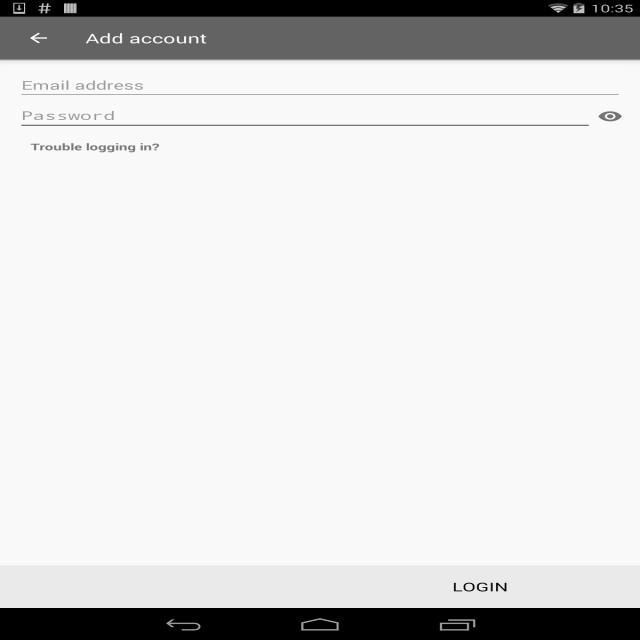Button: (328, 570, 632, 602), (17, 130, 172, 162)
CheckBox: (597, 108, 623, 125)
EditText: (17, 70, 623, 100), (17, 100, 593, 131)
ImageButton: (9, 17, 68, 59)
TextView: (85, 29, 207, 47)
